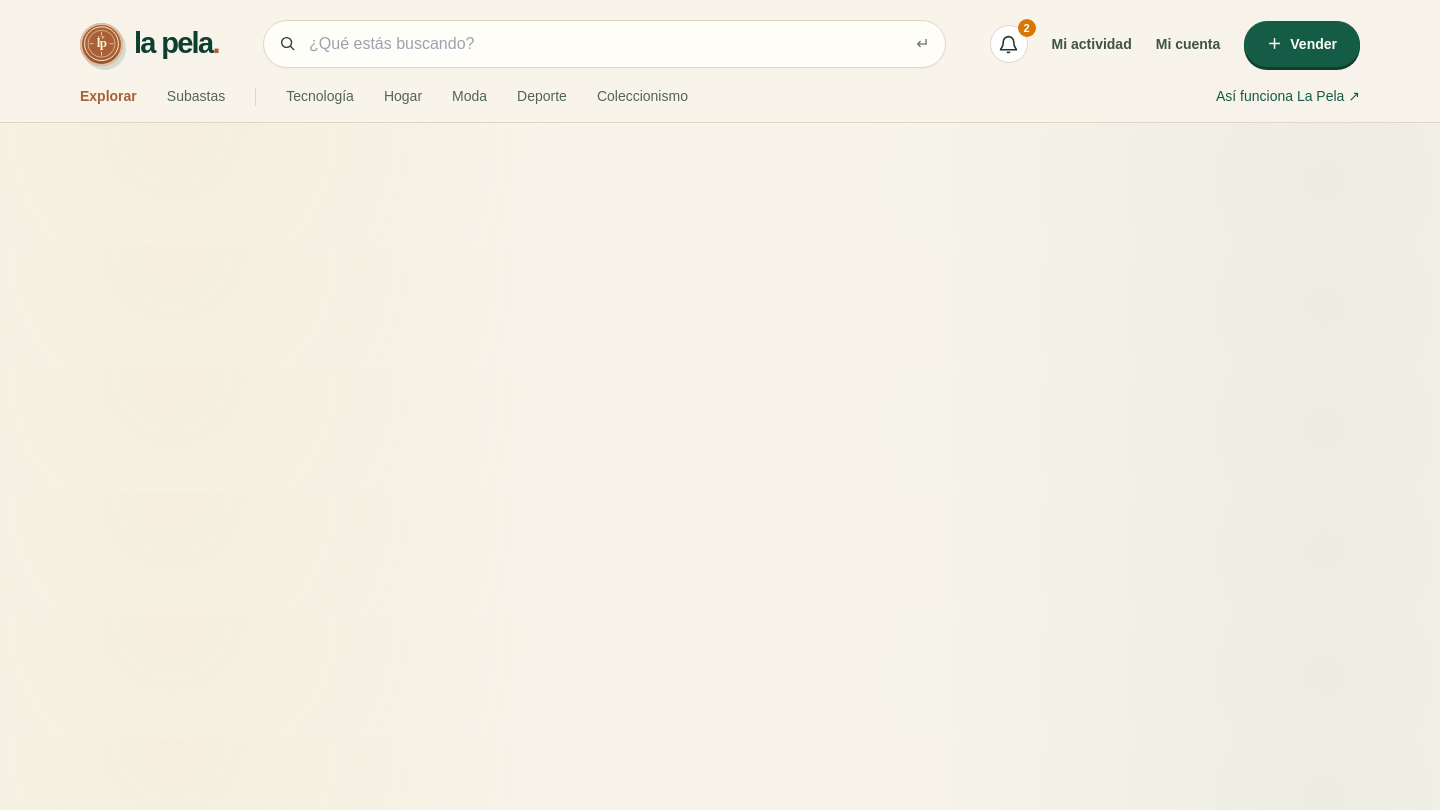
Test: Header notifications › shows option to mark all as read and clears notifications when clicked
Click the button named "2 novedades sin leer": x=1009, y=44 990,25 -> 1028,63
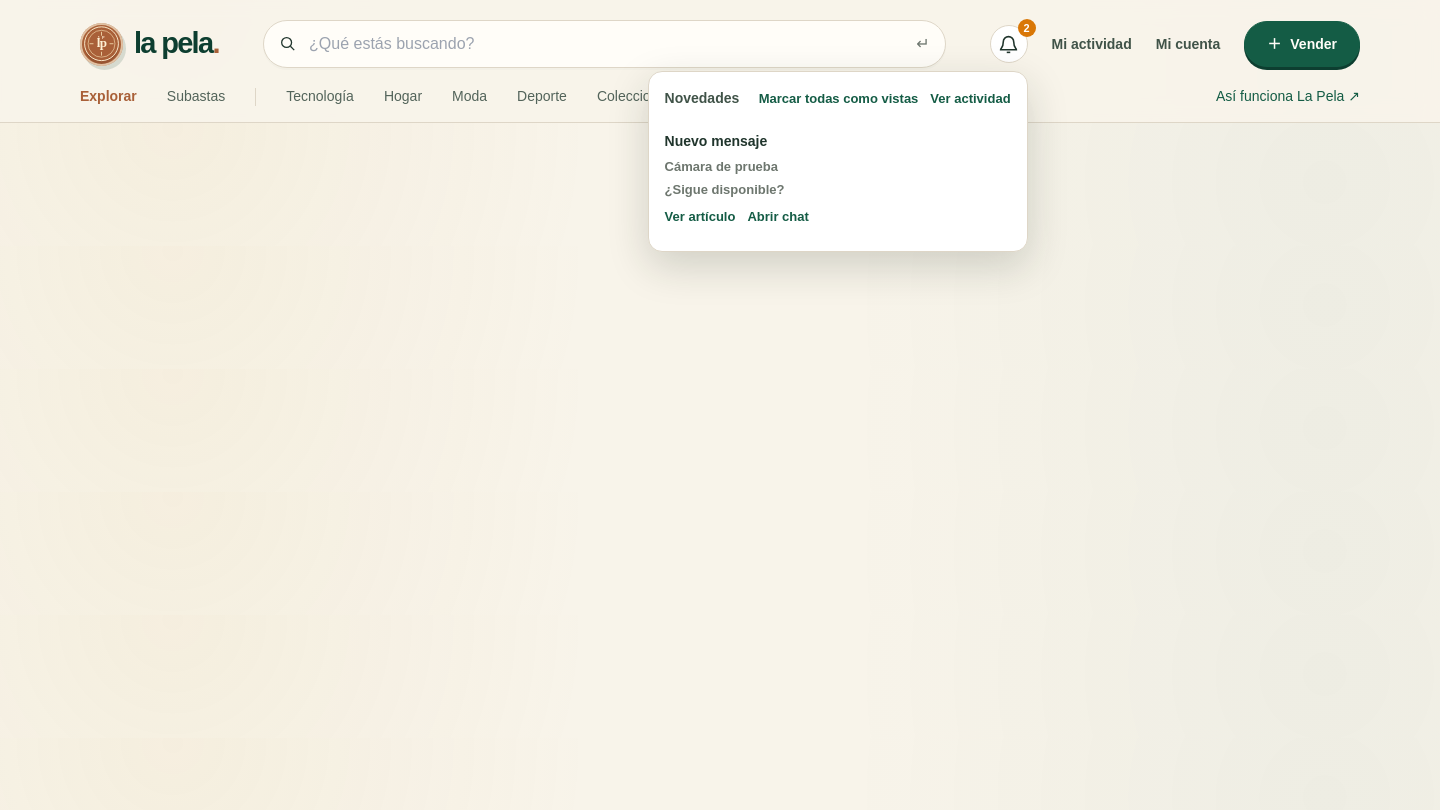
Check: the button "Marcar todas como vistas" is shown
Click the button "Marcar todas como vistas": x=839, y=99 759,89 -> 918,108
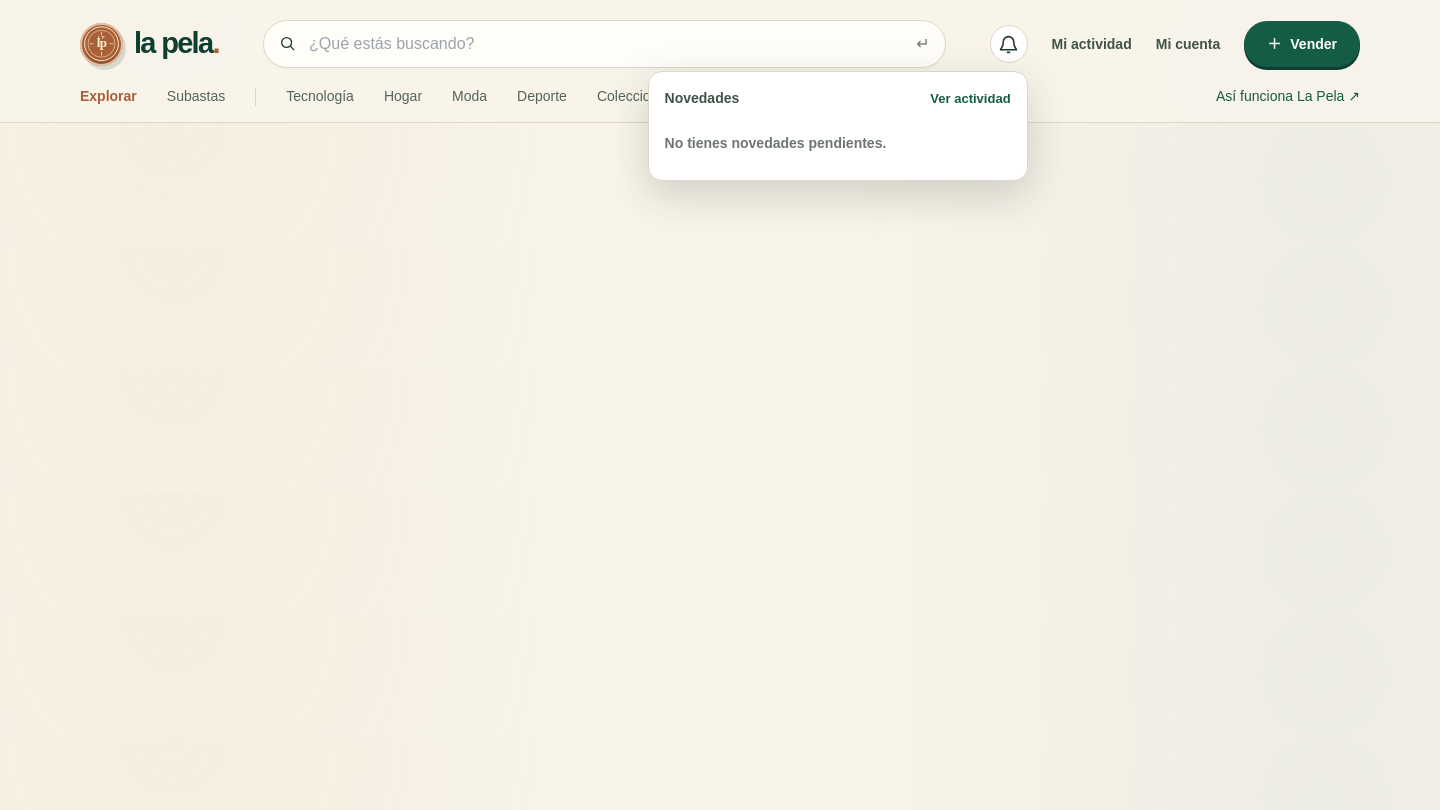
Check: the text "No tienes novedades pendientes." is shown, box 665,135 -> 886,151
Check: the button "Marcar todas como vistas" is gone
Check: the button named "No tienes novedades sin leer" is shown, box 990,25 -> 1028,63
